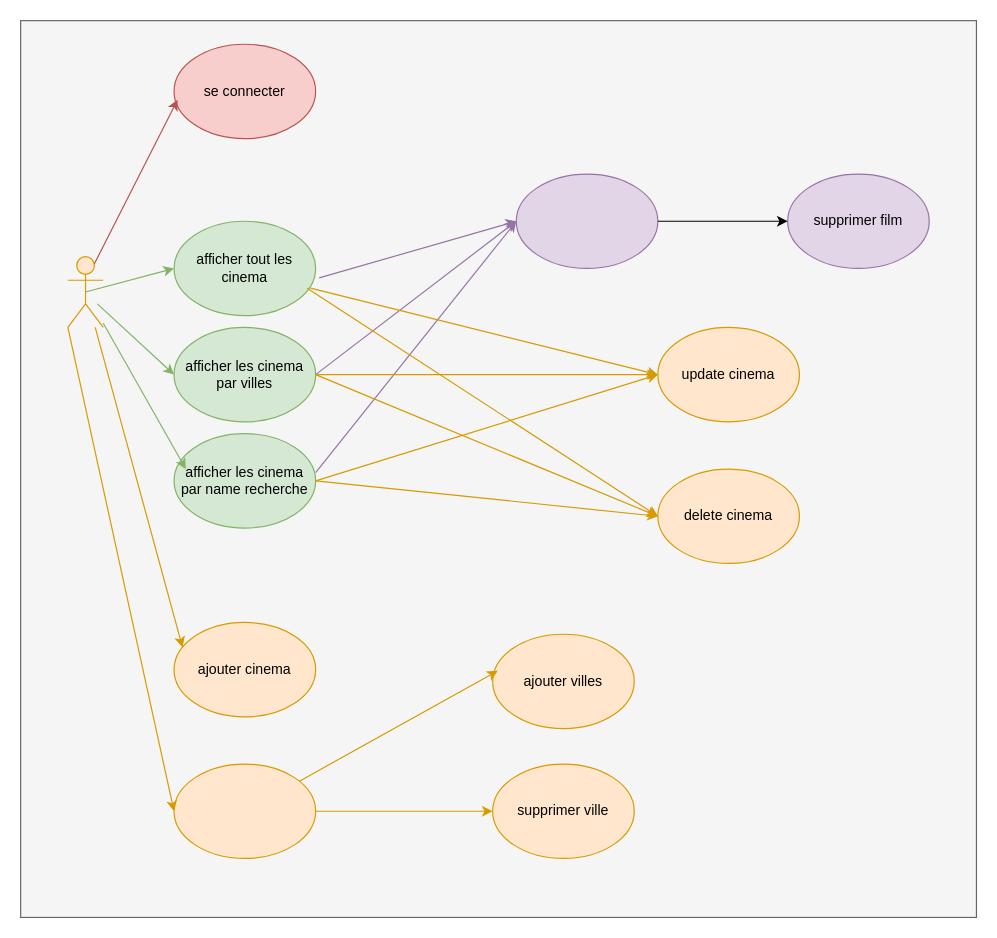
Some shapes in this 997 by 938 pixel diagram are drawn without their labels. Each missing label, with the centre of its shape:
admin: the point at 85,291
afficher les films par cinema: the point at 586,220
gestion des villes: the point at 244,810
